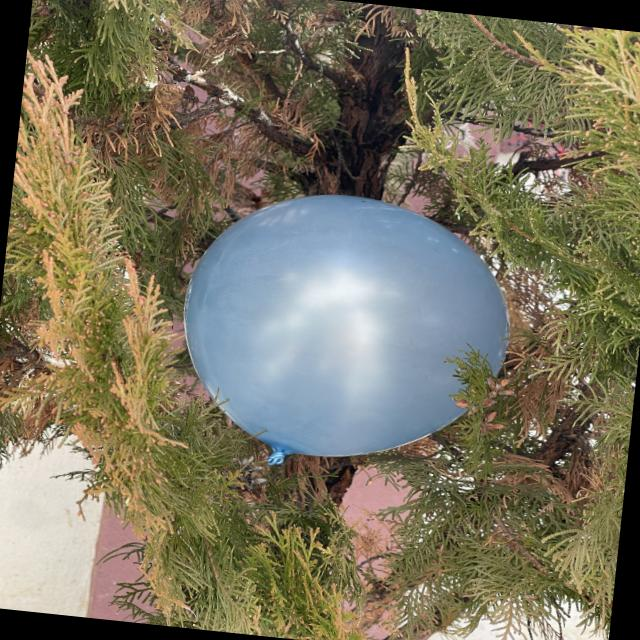balloon: (184, 195, 509, 461)
